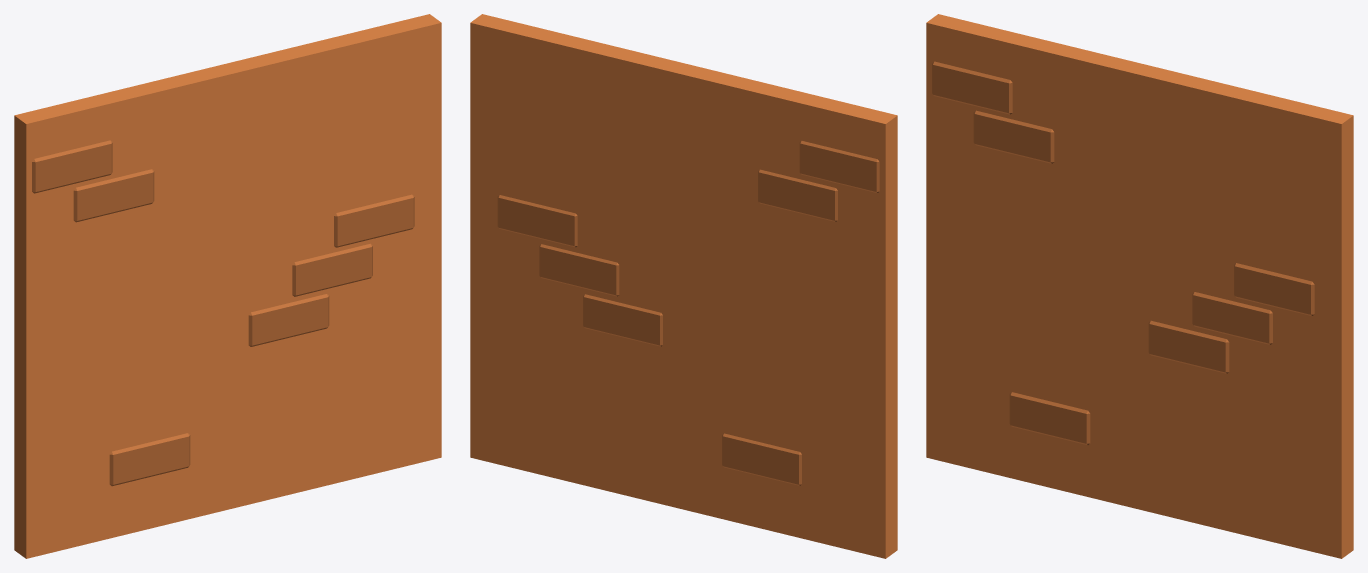
File: wall3.fbx
The picture shows the model from 3 angles, left to right: view 1: azimuth 30°, elevation 25°; view 2: azimuth 150°, elevation 25°; view 3: azimuth 330°, elevation 25°; orthographic projection.
Visible parts, largest first — view 1: Wall - Blank.003; view 2: Wall - Blank.003; view 3: Wall - Blank.003.
Boxes of the visible parts, bbox=[...] form: Wall - Blank.003: bbox=[14, 14, 441, 558]; Wall - Blank.003: bbox=[470, 14, 897, 558]; Wall - Blank.003: bbox=[926, 14, 1353, 558].
Bounding box in the file's own units: 400 × 24.1 × 400.
